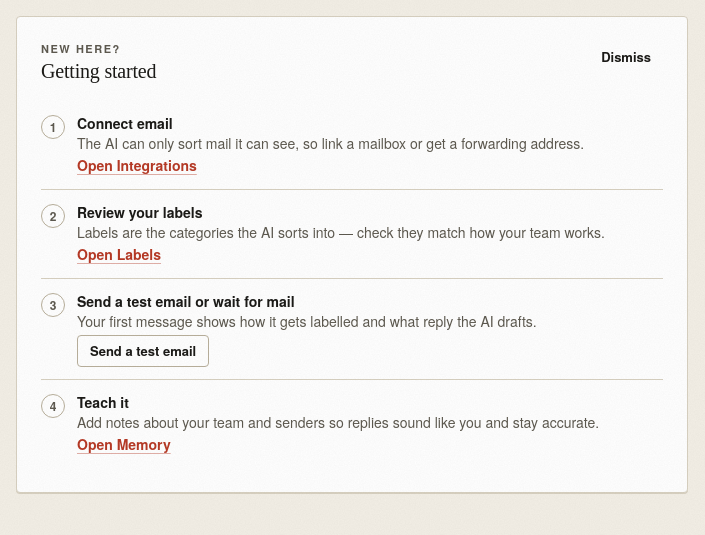
Test: GettingStarted › creates the forwarding source before sending a test email when none exists
Step 1. Click the button "Send a test email" → (143, 351), box [77, 335, 209, 367]
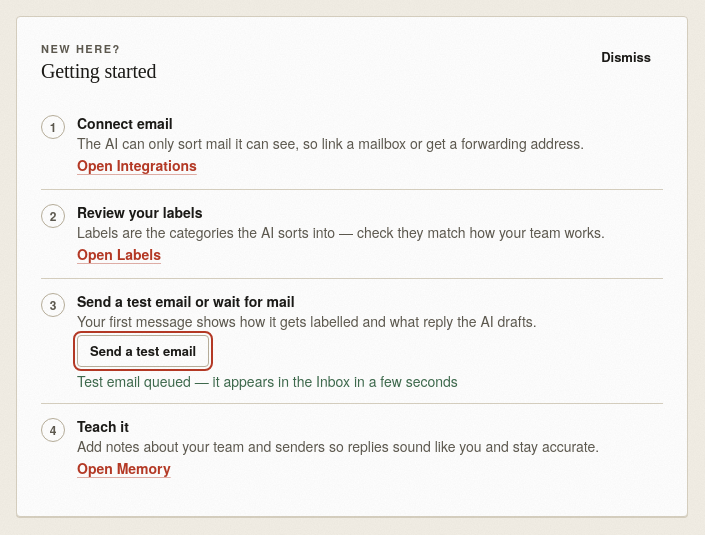
Result: the text "Test email queued — it appears in the Inbox in a few seconds" is shown at [77, 371, 458, 391]
